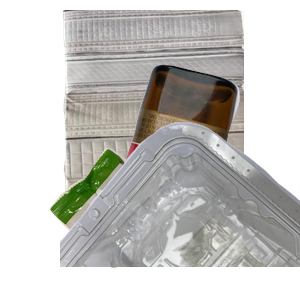glass: (113, 62, 300, 242)
paper: (60, 10, 300, 190)
plastic: (60, 120, 300, 300)
trash: (47, 146, 220, 300)
